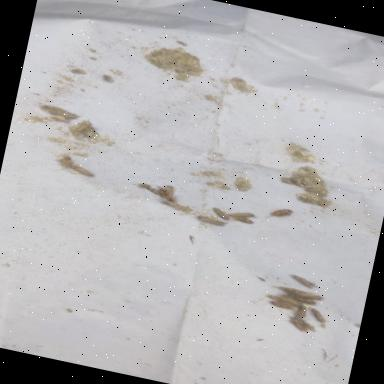pbw: (152, 185, 182, 204), (290, 288, 324, 302), (268, 299, 299, 312), (287, 317, 311, 333), (290, 274, 316, 288), (270, 205, 294, 220), (196, 214, 226, 226), (54, 154, 76, 170), (307, 308, 329, 324), (288, 293, 316, 305), (264, 292, 290, 304), (272, 284, 302, 294), (211, 207, 234, 220), (278, 294, 302, 306), (232, 208, 255, 220), (74, 164, 96, 176), (144, 184, 166, 196), (294, 304, 310, 320), (160, 200, 184, 210), (84, 126, 96, 138)
